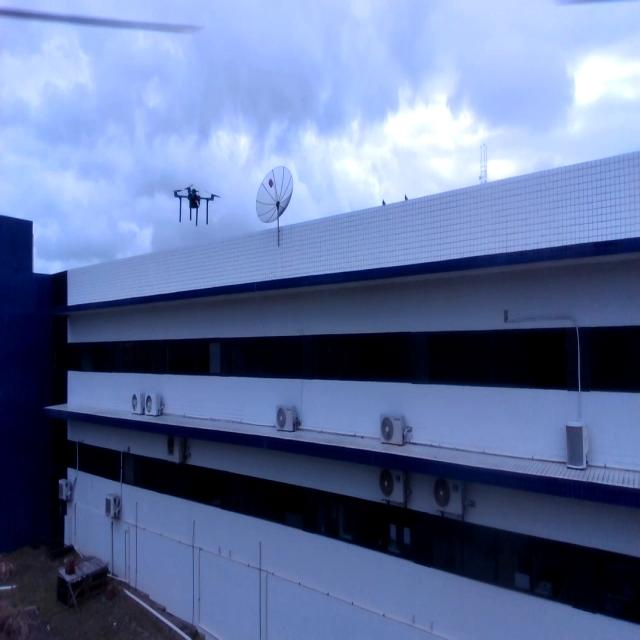-uav-: (168, 173, 224, 234)
